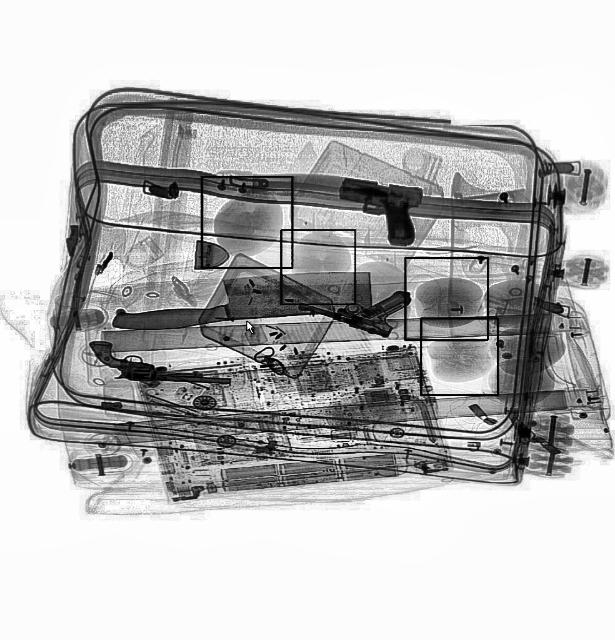Gun: (298, 260, 412, 342), (333, 178, 423, 248), (89, 340, 232, 384)
Knife: (109, 265, 373, 331)
